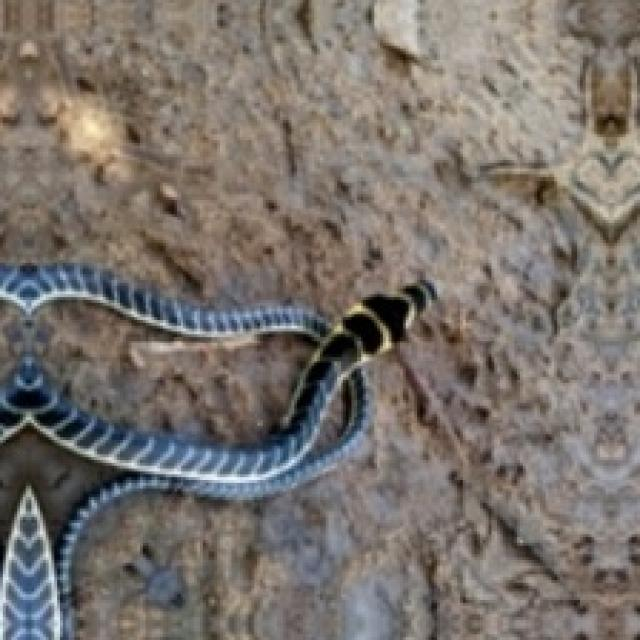king cobra: (0, 263, 434, 637), (31, 297, 149, 426)
